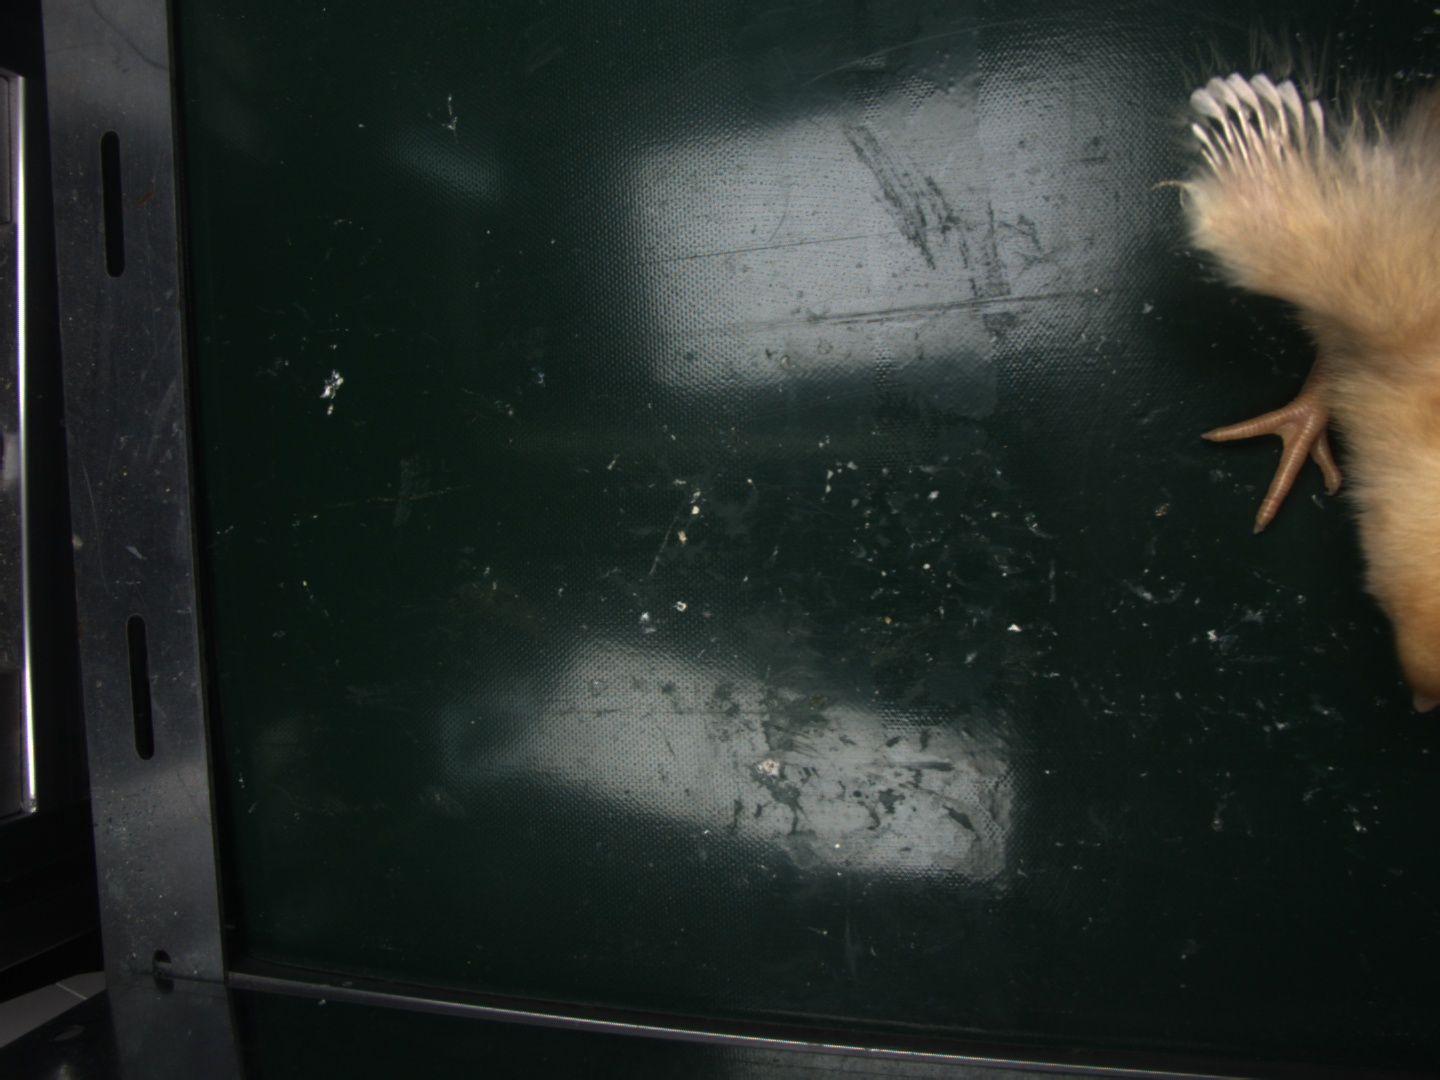female: (1191, 71, 1314, 172)
